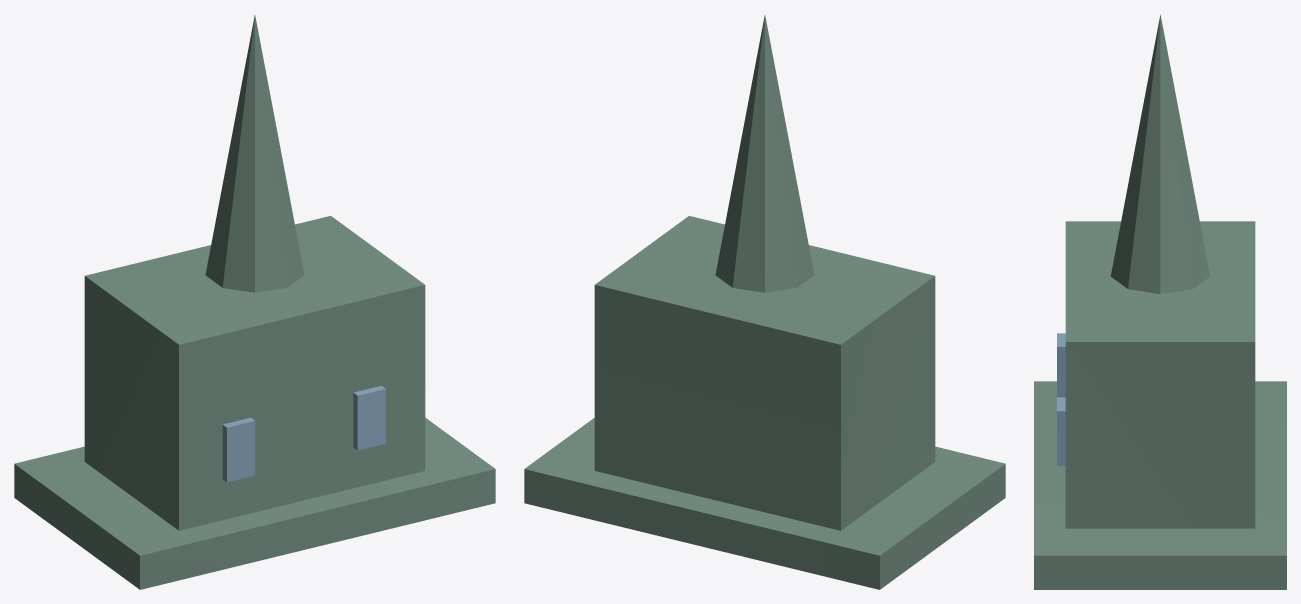
Rendered from monument-08.glb.
3 views of the same model, side by side, from view 1: azimuth 30°, elevation 25°; view 2: azimuth 150°, elevation 25°; view 3: azimuth 270°, elevation 25° (orthographic).
Parts seen in each view (by area): view 1: world; view 2: world; view 3: world.
Part boxes in pixels (x1=…): world: x1=14, y1=15, x2=495, y2=589; world: x1=524, y1=15, x2=1005, y2=589; world: x1=1034, y1=14, x2=1286, y2=589.
Bounding box in the file's own units: 1.63 × 2.13 × 1.
